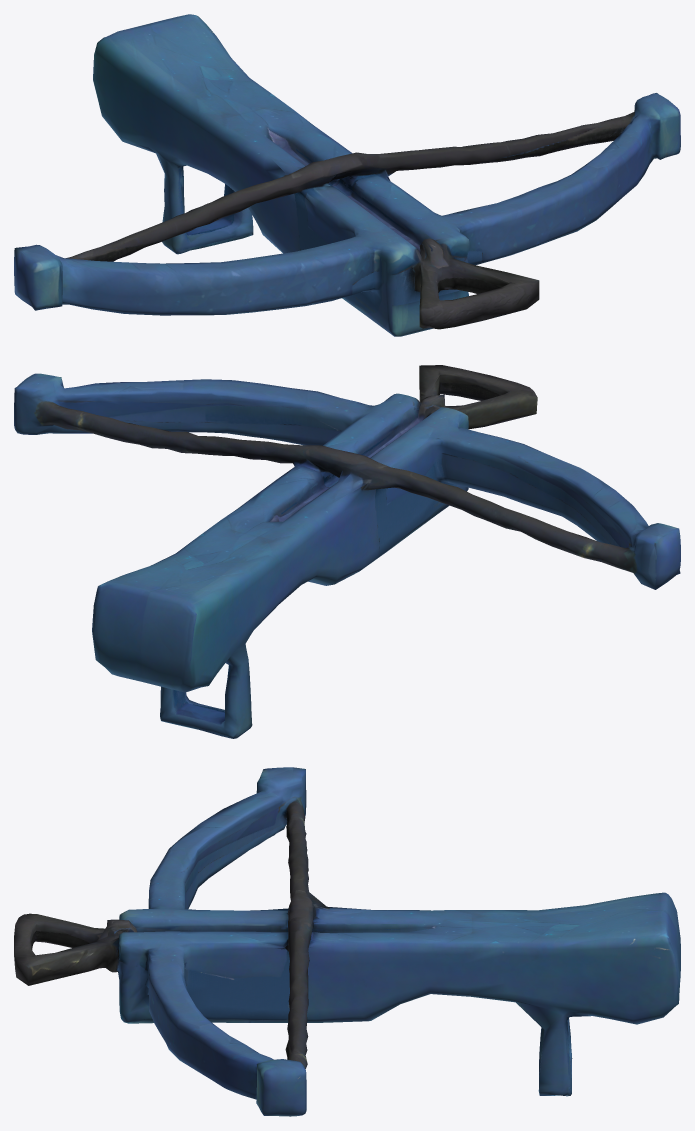
The model's file is crossbow-mithril.glb.
3 renders of one model, top to bottom at view 1: azimuth 30°, elevation 25°; view 2: azimuth 150°, elevation 25°; view 3: azimuth 270°, elevation 25°, orthographic. The views are drawn at different scales.
Bounding box in the file's own units: 2 × 0.5168 × 1.83.
Materials: 1 (1 with a texture image).
